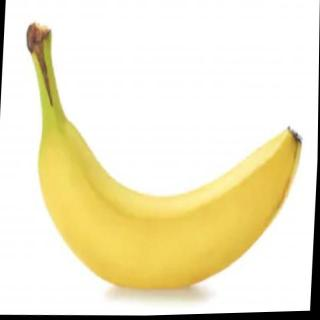banana: (31, 112, 305, 300)
